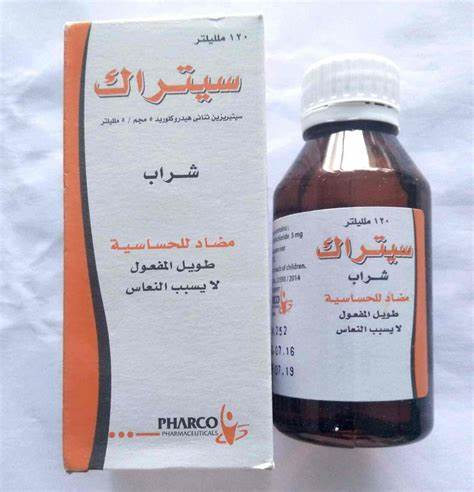Medicine: (56, 13, 283, 480), (269, 43, 447, 451)
